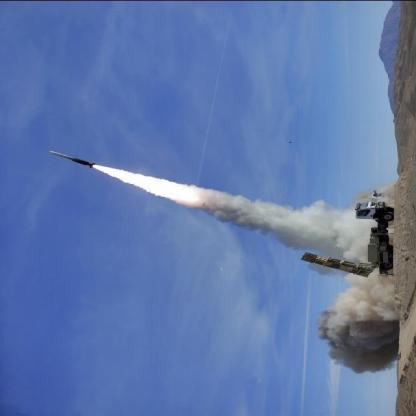MIL_TBM: (49, 143, 108, 170)
